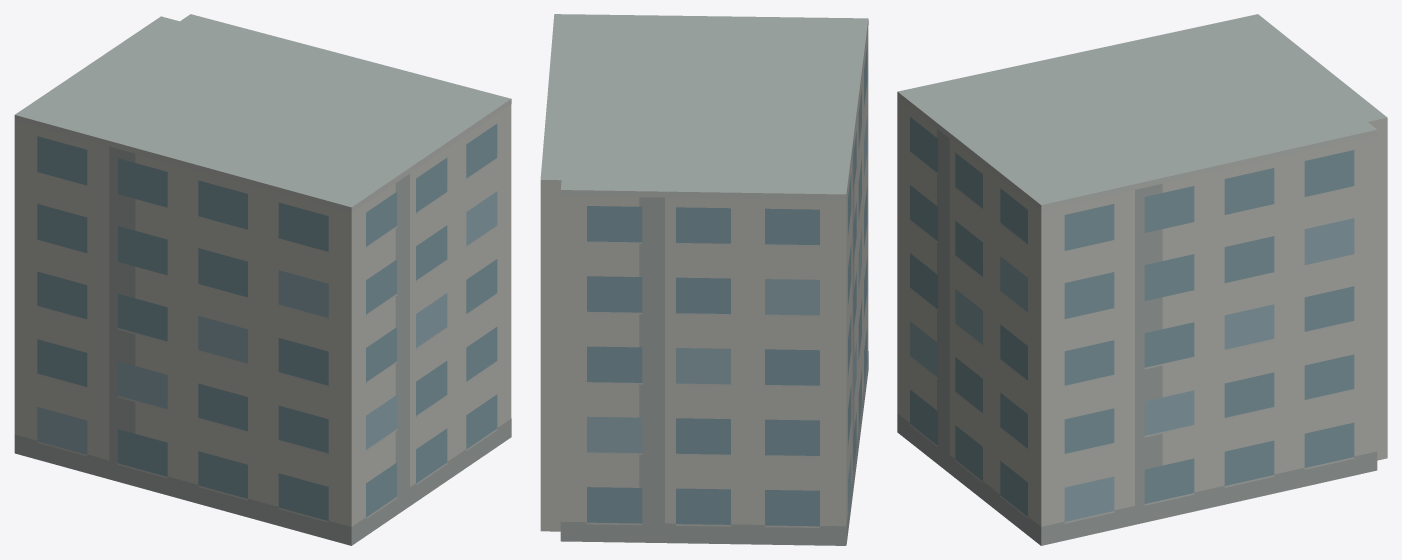
Rendered from survey-upis-32882502.glb.
3 views of the same model, side by side, from view 1: azimuth 30°, elevation 25°; view 2: azimuth 150°, elevation 25°; view 3: azimuth 270°, elevation 25° (orthographic). The views are drawn at different scales.
Parts seen in each view (by area): view 1: survey-upis-32882502.tmp; view 2: survey-upis-32882502.tmp; view 3: survey-upis-32882502.tmp.
Boxes of the visible parts, x1=… form: survey-upis-32882502.tmp: x1=14, y1=14, x2=511, y2=545; survey-upis-32882502.tmp: x1=540, y1=14, x2=868, y2=545; survey-upis-32882502.tmp: x1=897, y1=14, x2=1387, y2=545.
Bounding box in the file's own units: 17.31 × 14.38 × 18.75.
